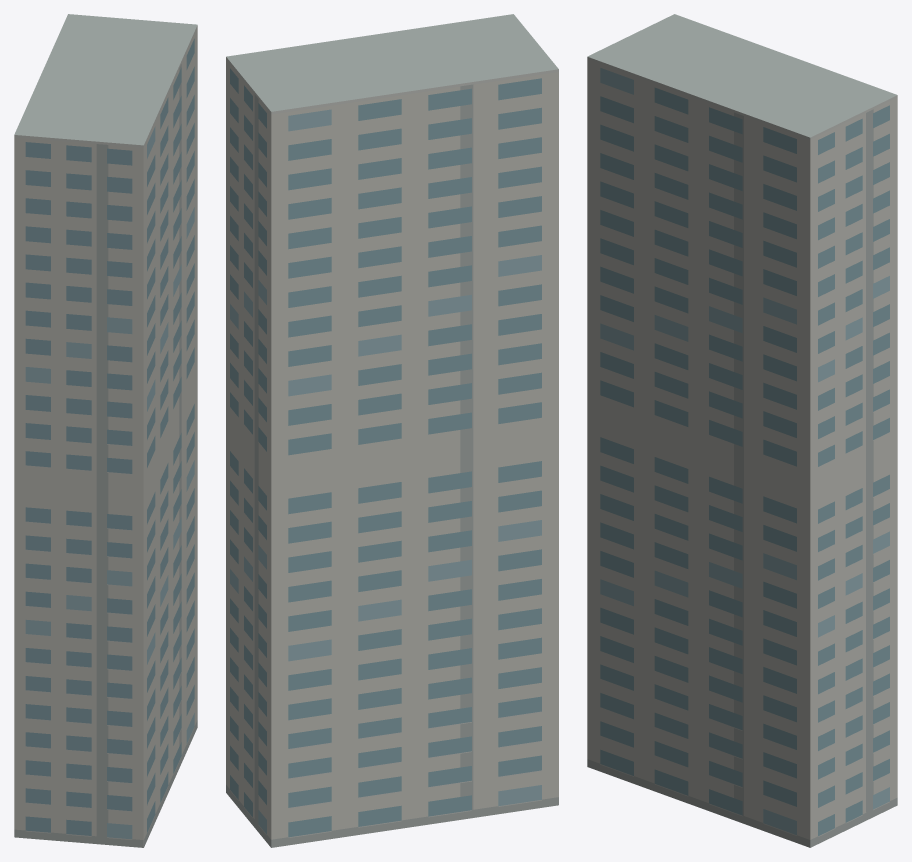
Rendered from residential-e19cf80c-1510-4282-9639-22a9f5d096bf.glb.
3 views of the same model, side by side, from view 1: azimuth 30°, elevation 25°; view 2: azimuth 150°, elevation 25°; view 3: azimuth 270°, elevation 25° (orthographic). The views are drawn at different scales.
Parts seen in each view (by area): view 1: residential-e19cf80c-1510-4282-9639-22a9f5d096bf.tmp; view 2: residential-e19cf80c-1510-4282-9639-22a9f5d096bf.tmp; view 3: residential-e19cf80c-1510-4282-9639-22a9f5d096bf.tmp.
Part boxes in pixels (<box>): residential-e19cf80c-1510-4282-9639-22a9f5d096bf.tmp: <box>14,14,197,847</box>; residential-e19cf80c-1510-4282-9639-22a9f5d096bf.tmp: <box>226,14,558,847</box>; residential-e19cf80c-1510-4282-9639-22a9f5d096bf.tmp: <box>587,14,897,847</box>.
Bounding box in the file's own units: 26.51 × 71 × 28.14.
